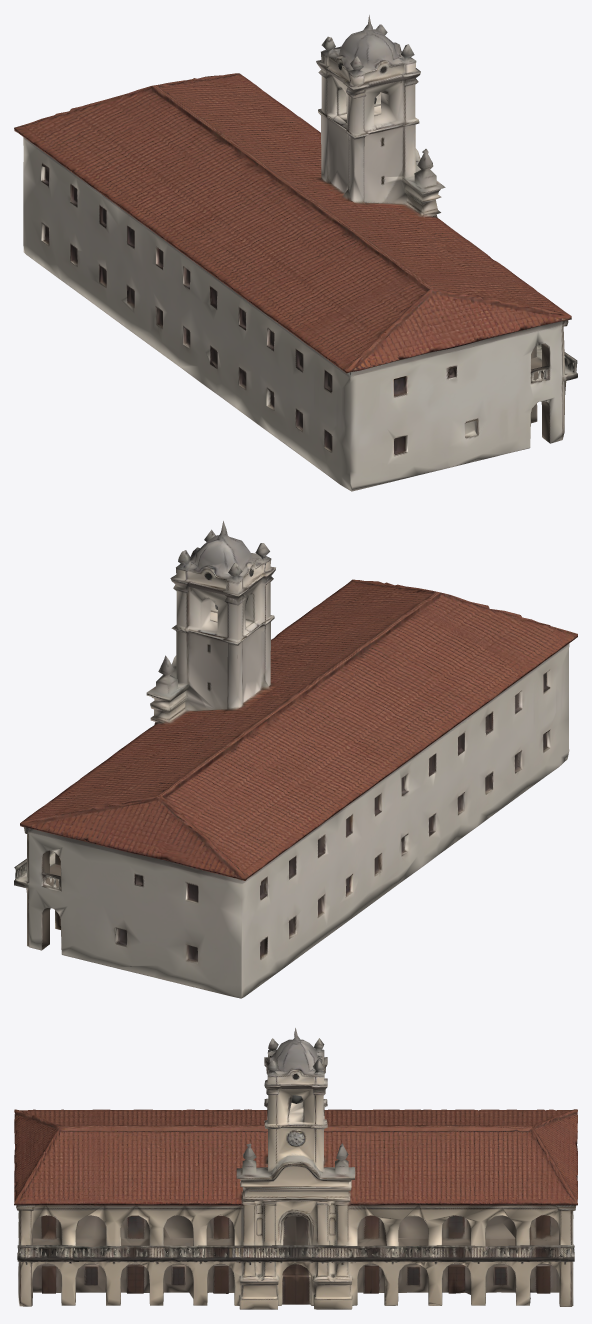
File: ab84d48d-0f56-47e6-a375-bfa078954bc6_model_url.glb
The picture shows the model from 3 angles, top to bottom: view 1: azimuth 30°, elevation 25°; view 2: azimuth 150°, elevation 25°; view 3: azimuth 270°, elevation 25°; orthographic projection. The views are drawn at different scales.
Visible parts, largest first — view 1: tripo_node_ab84d48d-0f56-47e6-a375-bfa078954bc6; view 2: tripo_node_ab84d48d-0f56-47e6-a375-bfa078954bc6; view 3: tripo_node_ab84d48d-0f56-47e6-a375-bfa078954bc6.
Part boxes in pixels (<box>): tripo_node_ab84d48d-0f56-47e6-a375-bfa078954bc6: <box>14,15,577,491</box>; tripo_node_ab84d48d-0f56-47e6-a375-bfa078954bc6: <box>14,521,577,998</box>; tripo_node_ab84d48d-0f56-47e6-a375-bfa078954bc6: <box>14,1028,577,1309</box>.
Bounding box in the file's own units: 0.4058 × 0.5215 × 1.
1 material, 1 textured.
